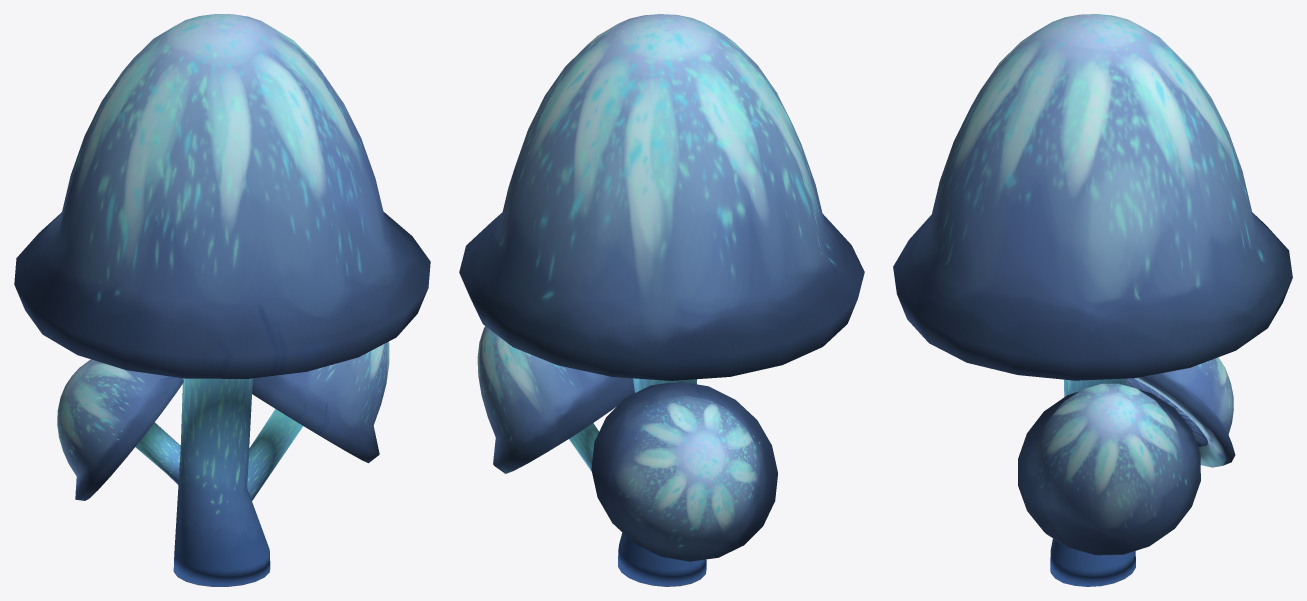
Rendered from branchedMushroom.fbx.
3 views of the same model, side by side, from view 1: azimuth 30°, elevation 25°; view 2: azimuth 150°, elevation 25°; view 3: azimuth 270°, elevation 25° (orthographic).
Visible parts, largest first — view 1: polySurface235; view 2: polySurface235; view 3: polySurface235.
Part boxes in pixels (x1,y1,x2,y2): polySurface235: (14,14,430,586); polySurface235: (459,14,864,586); polySurface235: (893,14,1292,586).
Bounding box in the file's own units: 91.42 × 134 × 88.13.
